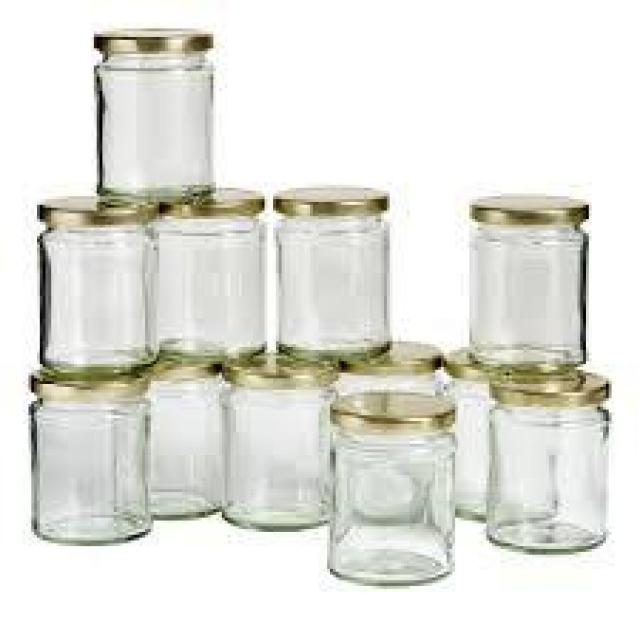non-organic waste: (88, 23, 222, 205)
